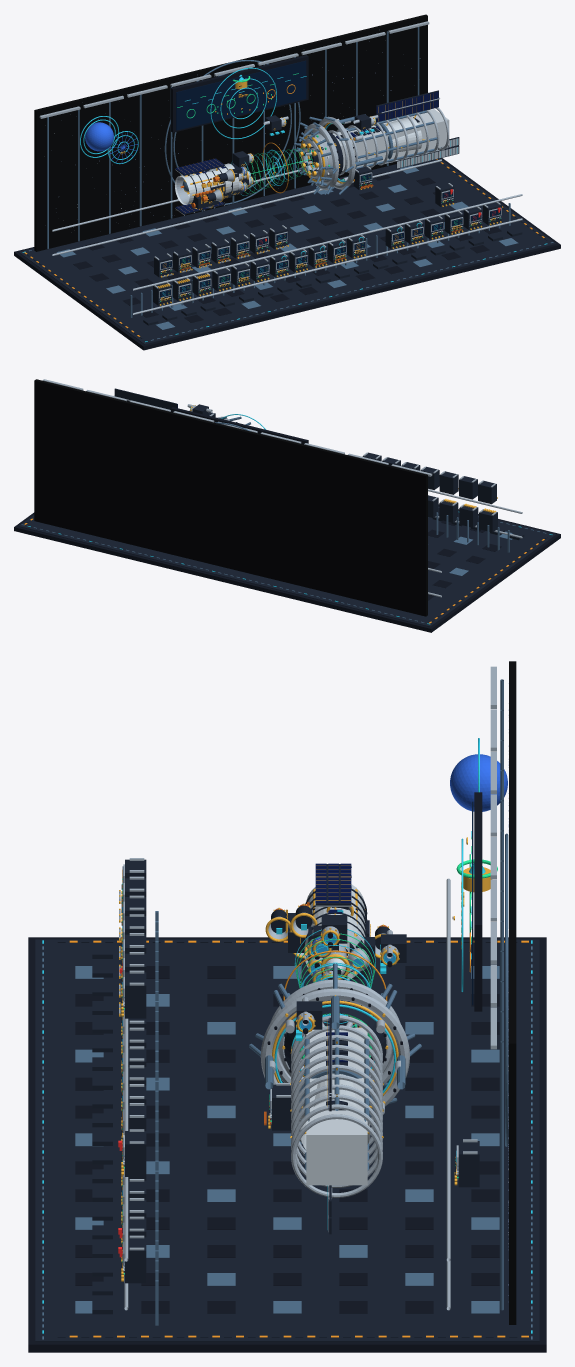
The model's file is Level85_Complete_ArtKit_Showcase.fbx.
3 renders of one model, top to bottom at view 1: azimuth 30°, elevation 25°; view 2: azimuth 150°, elevation 25°; view 3: azimuth 270°, elevation 25°, orthographic. The views are drawn at different scales.
Parts seen in each view (by area): view 1: L85_OrbitalDockingArenaBase, L85_PanoramicEarthAndStarfieldViewport, L85_HolographicRendezvousSCADA_Part_0001, L85_StationOrbitalTrussSpine, L85_HolographicRendezvousSCADA, L85_StationCaptureStructuralFrame, L85_AutonomousServiceSpacecraftBody_Part_0000, L85_EarthOrbitalReferenceHologram_Part_0000, L85_RelativeOrbitTrajectoryHologram_Part_0000, L85_StationServiceAirlockModule, L85_ThreeDimensionalApproachCorridorHolo_Part_0002, L85_DockingOuterGuideRing_Part_0000 (+5 smaller); view 2: L85_PanoramicEarthAndStarfieldViewport, L85_OrbitalDockingArenaBase, L85_HolographicRendezvousSCADA, L85_StationSolarWingModule_Part_0000, L85_Protected5VControlSupply, L85_ThrusterFlowAndPressureMonitor, L85_CriticalClosingRateFeedbackStation, L85_DockingSafetyPLC, L85_ThrusterValveDriverRack, L85_PrecisionThrusterCalibrationFixture; view 3: L85_OrbitalDockingArenaBase, L85_StationOrbitalTrussSpine, L85_PanoramicEarthAndStarfieldViewport, L85_StationCaptureStructuralFrame, L85_EarthOrbitalReferenceHologram_Part_0000, L85_HolographicRendezvousSCADA, L85_DockingOuterGuideRing_Part_0000, L85_PrecisionFlightEventDataRecorder, L85_AsymmetricLatchFaultEmulator, L85_PrecisionDockingCameraMonitor, L85_StuckThrusterValveFaultEmulator, L85_StationDockingPowerInterface (+2 smaller).
Boxes of the visible parts, x1,y1,x2,y2 form: L85_OrbitalDockingArenaBase: [14, 158, 560, 350]; L85_PanoramicEarthAndStarfieldViewport: [34, 14, 429, 251]; L85_HolographicRendezvousSCADA_Part_0001: [176, 60, 306, 130]; L85_StationOrbitalTrussSpine: [328, 107, 449, 175]; L85_HolographicRendezvousSCADA: [171, 55, 308, 132]; L85_StationCaptureStructuralFrame: [309, 114, 382, 194]; L85_AutonomousServiceSpacecraftBody_Part_0000: [175, 163, 239, 204]; L85_EarthOrbitalReferenceHologram_Part_0000: [85, 122, 113, 151]; L85_RelativeOrbitTrajectoryHologram_Part_0000: [210, 67, 276, 139]; L85_StationServiceAirlockModule: [384, 117, 422, 152]; L85_ThreeDimensionalApproachCorridorHolo_Part_0002: [244, 147, 312, 194]; L85_DockingOuterGuideRing_Part_0000: [303, 123, 338, 190]; L85_PanoramicEarthAndStarfieldViewport: [34, 379, 432, 616]; L85_OrbitalDockingArenaBase: [14, 489, 560, 632]; L85_HolographicRendezvousSCADA: [171, 407, 308, 444]; L85_StationSolarWingModule_Part_0000: [114, 388, 177, 411]; L85_Protected5VControlSupply: [439, 471, 458, 494]; L85_ThrusterFlowAndPressureMonitor: [459, 503, 478, 527]; L85_CriticalClosingRateFeedbackStation: [478, 480, 497, 504]; L85_DockingSafetyPLC: [459, 476, 477, 499]; L85_ThrusterValveDriverRack: [479, 508, 497, 532]; L85_PrecisionThrusterCalibrationFixture: [439, 499, 458, 522]; L85_OrbitalDockingArenaBase: [28, 878, 546, 1352]; L85_StationOrbitalTrussSpine: [290, 1015, 383, 1197]; L85_PanoramicEarthAndStarfieldViewport: [490, 661, 516, 1324]; L85_StationCaptureStructuralFrame: [249, 968, 421, 1111]; L85_EarthOrbitalReferenceHologram_Part_0000: [450, 754, 507, 811]; L85_HolographicRendezvousSCADA: [474, 792, 482, 1011]; L85_DockingOuterGuideRing_Part_0000: [270, 979, 400, 1091]; L85_PrecisionFlightEventDataRecorder: [119, 970, 146, 1018]; L85_AsymmetricLatchFaultEmulator: [119, 1129, 146, 1176]; L85_PrecisionDockingCameraMonitor: [454, 1139, 479, 1187]; L85_StuckThrusterValveFaultEmulator: [119, 1235, 146, 1283]; L85_StationDockingPowerInterface: [264, 1083, 291, 1130].
Size of what is drawn, in the model's own units: 2920 by 1013 by 1570.
